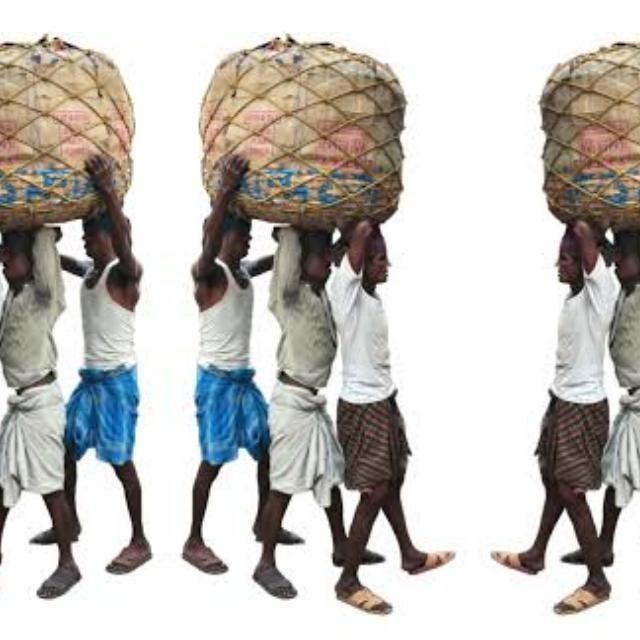person: (186, 184, 278, 618), (54, 184, 146, 618)
